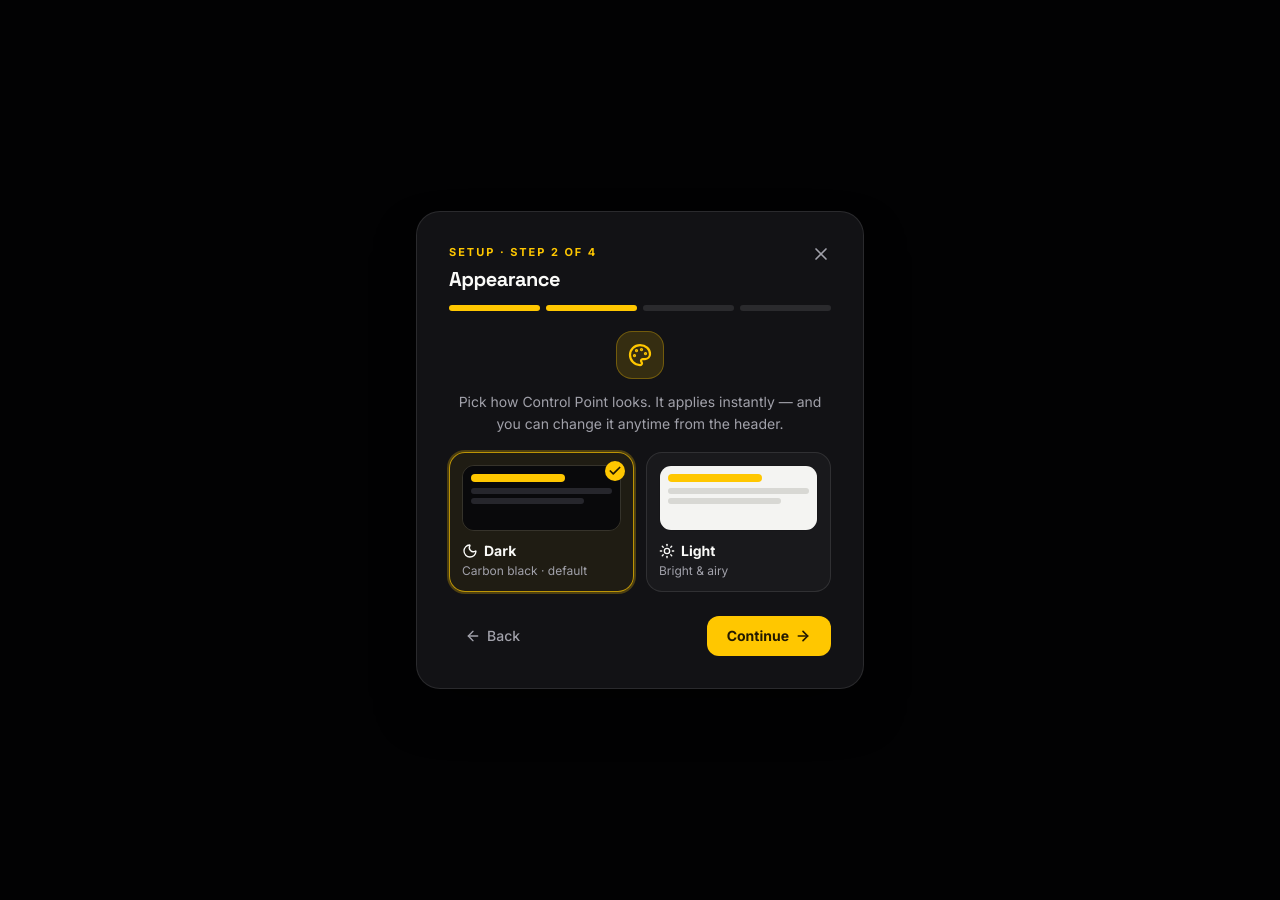
Test: SetupWizard › appearance step applies the theme instantly and persists it
The width and height of the screenshot is (1280, 900).
Check: the element named "appearance" is shown, box [449,452,831,592]
Click the radio button labelled "Light Bright & airy": (738, 522) [646,452,831,592]
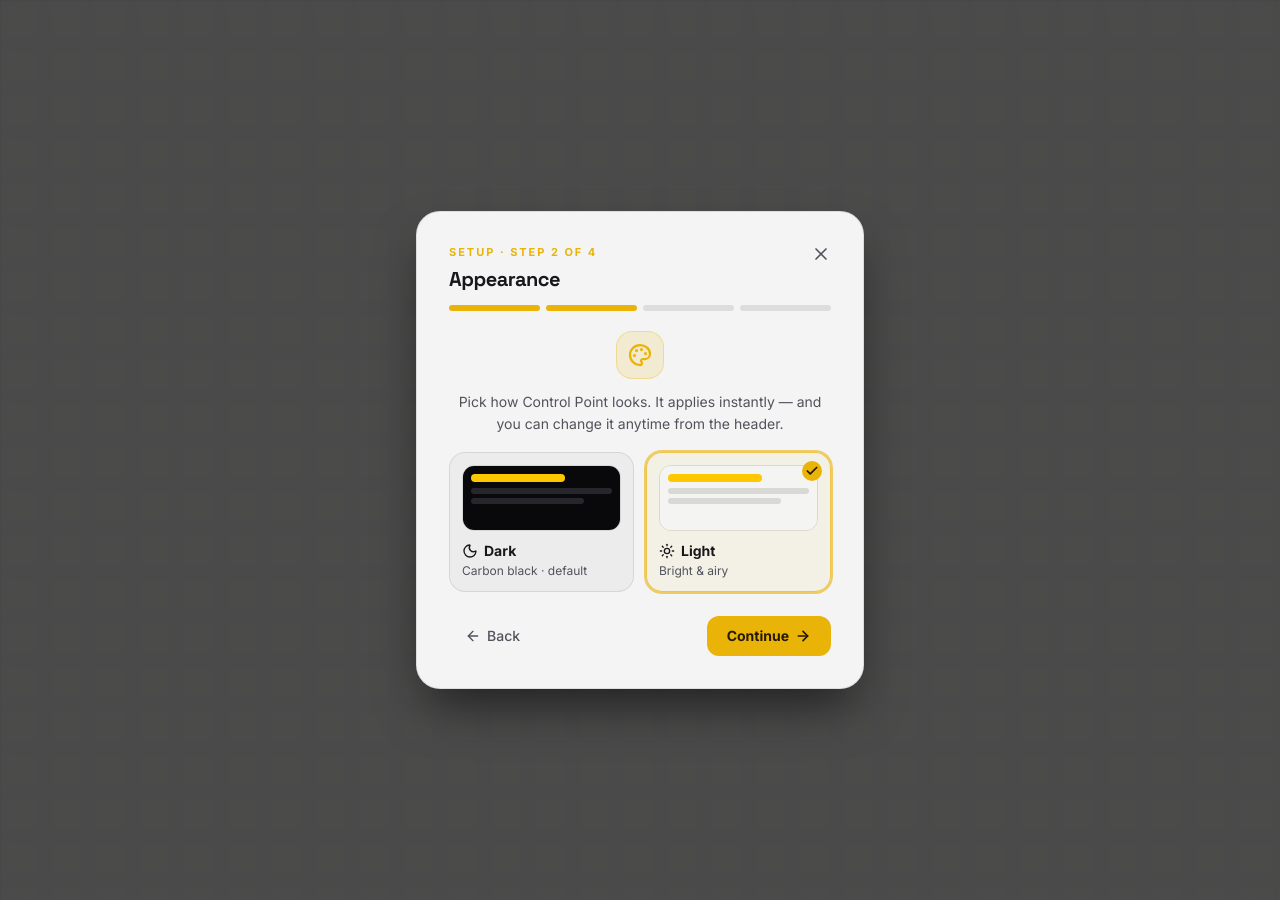
Check: the radio button labelled "Light Bright & airy" is checked, box [646,452,831,592]
Note: continue advances to the tour step
Click the button "Continue": (769, 636) [707,616,831,656]
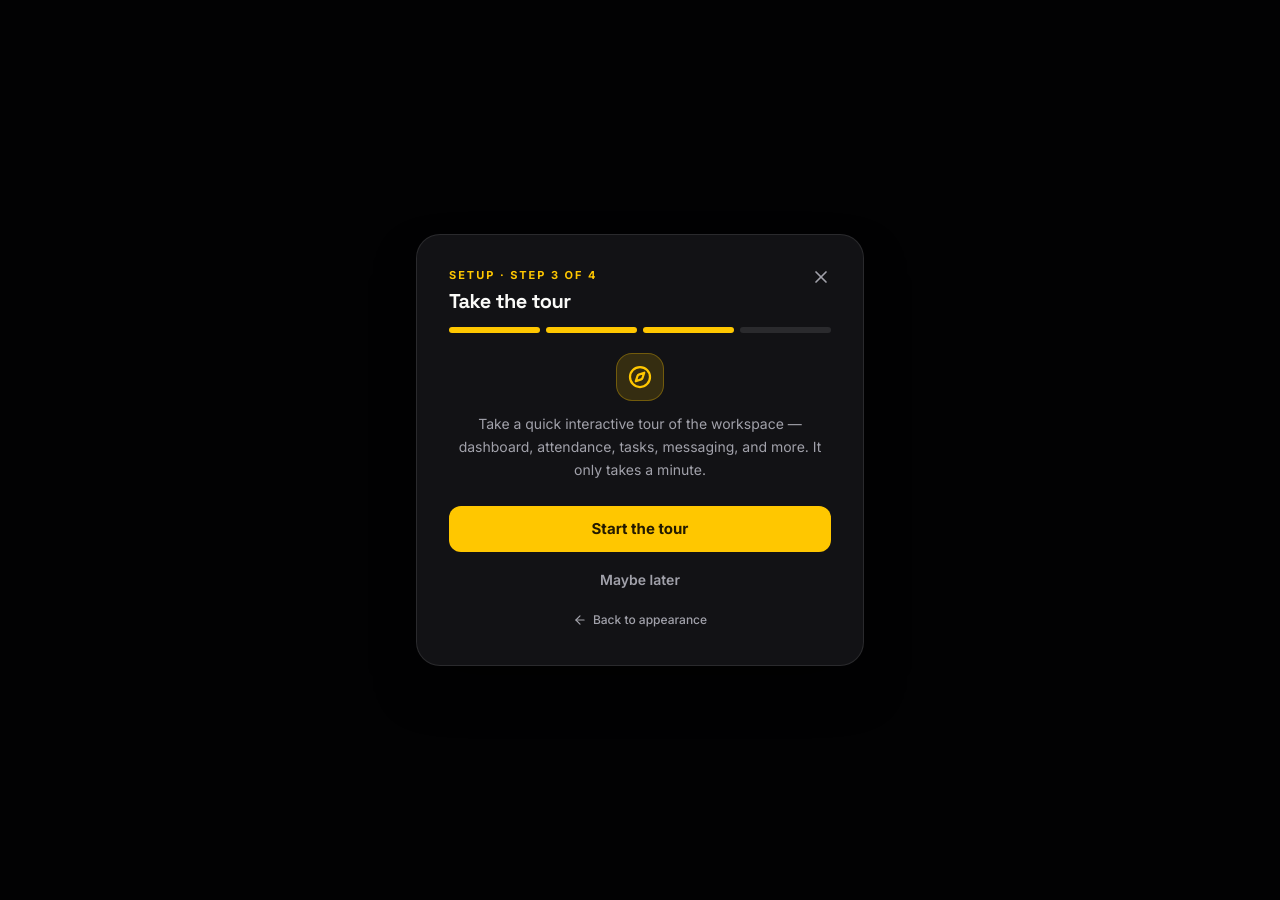
Check: the button "Start the tour" is shown, box [449,506,831,552]
